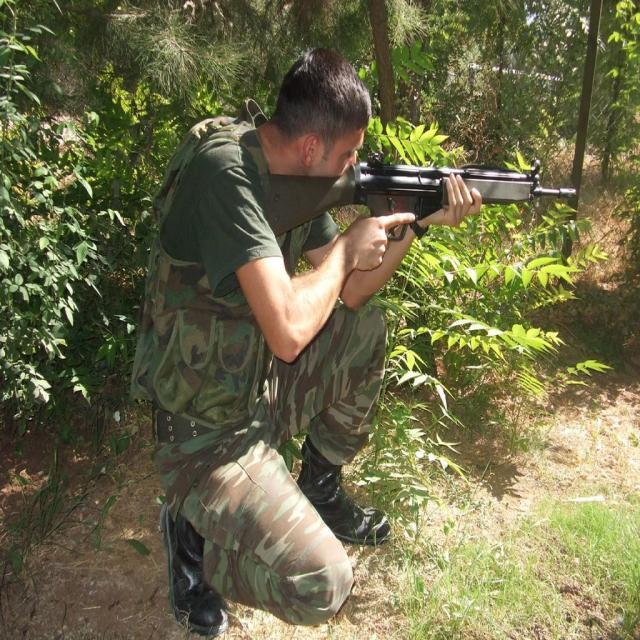weapon: (250, 158, 578, 245)
